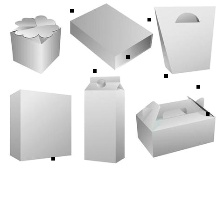book: (65, 0, 157, 74), (131, 91, 219, 160), (3, 84, 75, 166), (148, 0, 219, 77), (77, 70, 128, 167), (6, 10, 64, 77)
